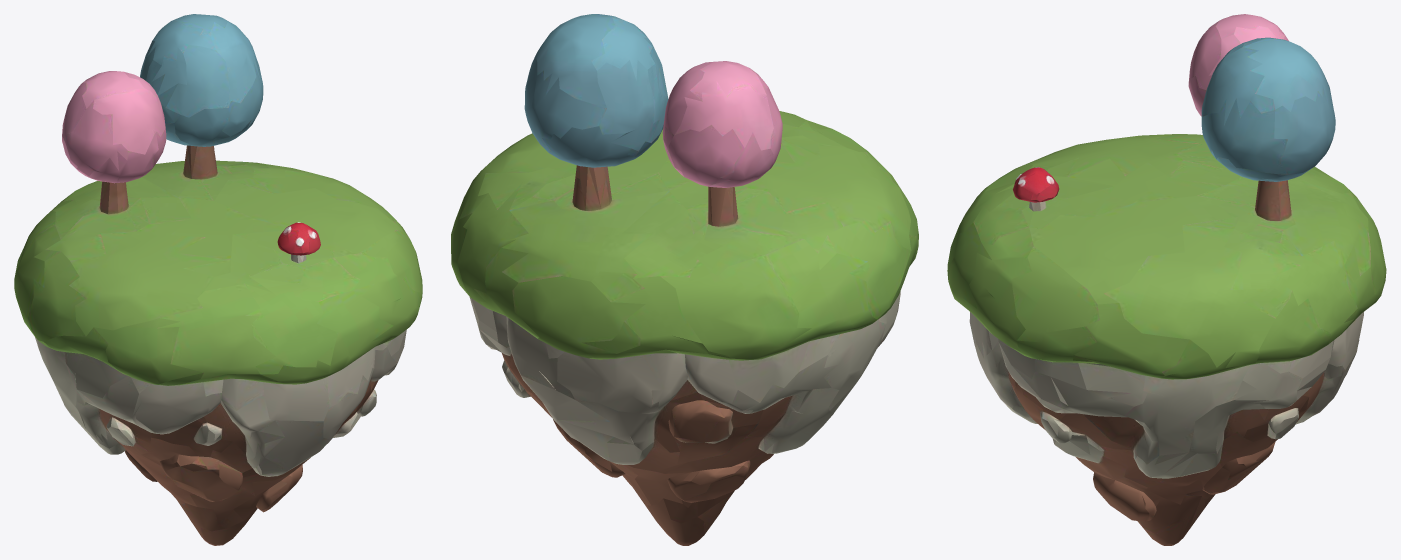
The model's file is island.glb.
3 views of the same model, side by side, from view 1: azimuth 30°, elevation 25°; view 2: azimuth 150°, elevation 25°; view 3: azimuth 270°, elevation 25° (orthographic). The views are drawn at different scales.
Visible parts, largest first — view 1: Mesh_0; view 2: Mesh_0; view 3: Mesh_0.
Boxes of the visible parts, <box> form: Mesh_0: <box>14,14,422,545</box>; Mesh_0: <box>451,14,918,545</box>; Mesh_0: <box>947,14,1386,545</box>.
Size of the model in its own units: 1.46 by 1.9 by 1.46.
Materials: 1 (1 with a texture image).
